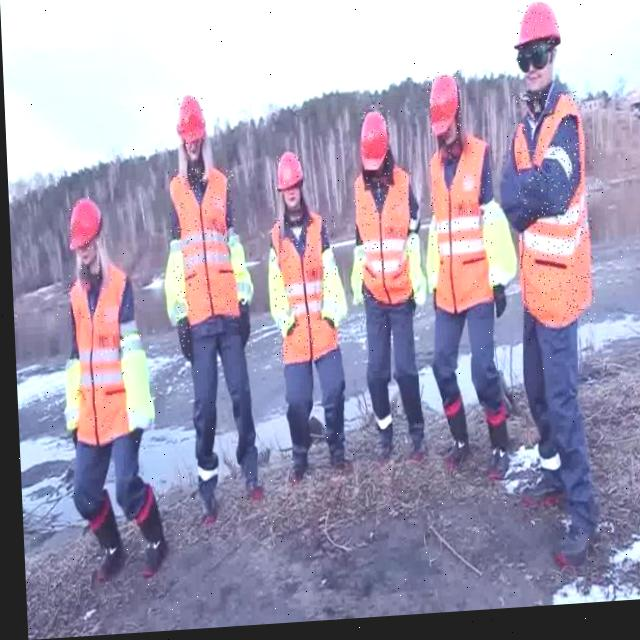Gloves: (490, 291, 504, 325)
Helmet: (427, 78, 460, 143), (511, 9, 562, 51), (65, 197, 102, 252), (358, 115, 389, 175), (174, 95, 206, 146), (274, 154, 303, 194)
Safety-Boot: (126, 483, 166, 579)
Safety-Vest: (508, 98, 593, 337), (426, 140, 495, 322), (67, 264, 134, 448), (168, 168, 240, 328), (352, 170, 415, 311)
